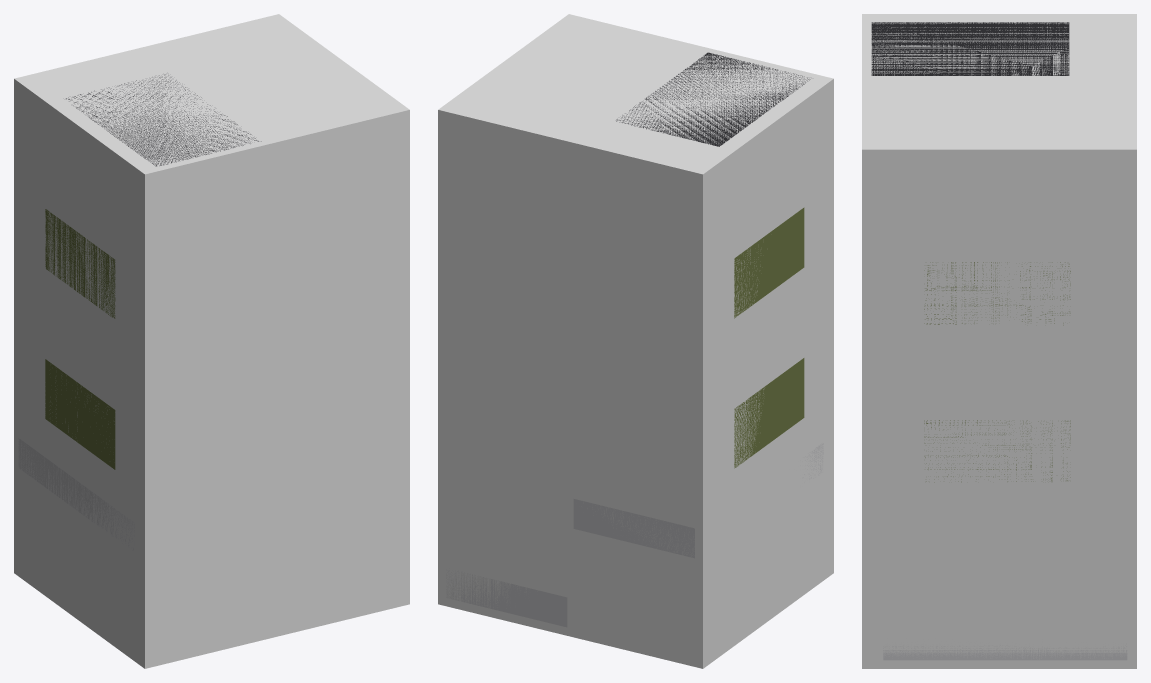
The model's file is shotgun_mag_quick.glb.
The picture shows the model from 3 angles, left to right: view 1: azimuth 30°, elevation 25°; view 2: azimuth 150°, elevation 25°; view 3: azimuth 270°, elevation 25°; orthographic projection. The views are drawn at different scales.
Parts seen in each view (by area): view 1: COL_part, mag; view 2: COL_part, mag; view 3: COL_part, mag.
Boxes of the visible parts, x1=… form: COL_part: x1=14, y1=14, x2=409, y2=668; mag: x1=18, y1=74, x2=261, y2=550; COL_part: x1=438, y1=14, x2=833, y2=668; mag: x1=446, y1=52, x2=823, y2=627; COL_part: x1=862, y1=14, x2=1136, y2=668; mag: x1=871, y1=22, x2=1127, y2=660.
Bounding box in the file's own units: 0.083 × 0.148 × 0.071.
